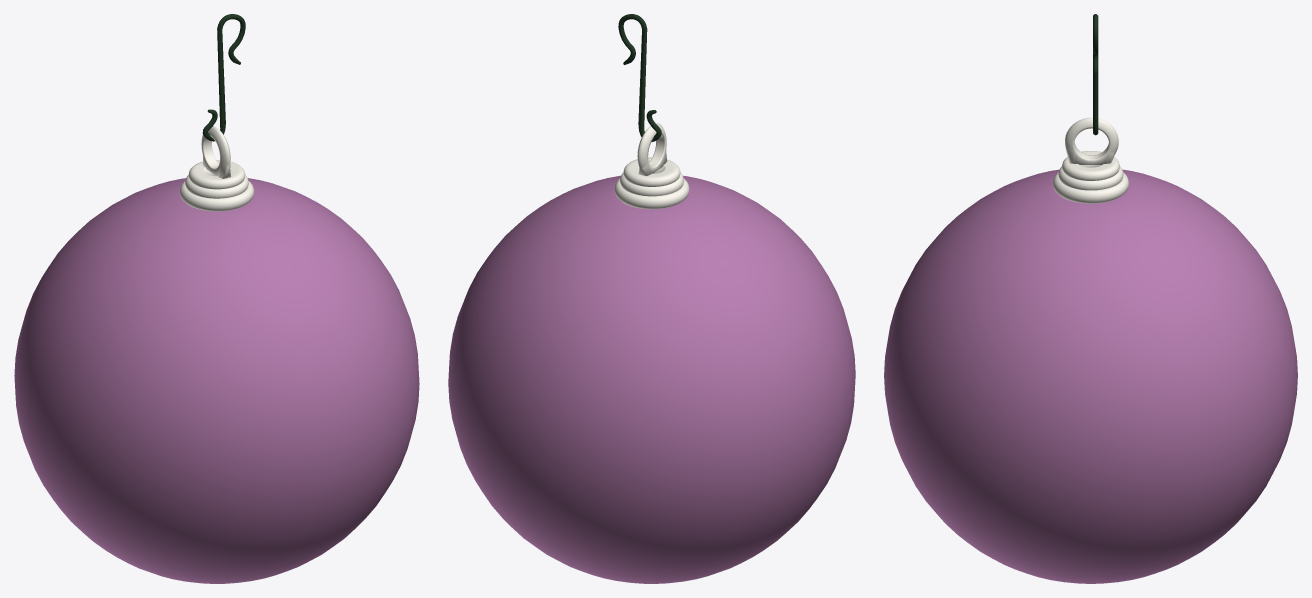
File: Pallina_natalizia_10.fbx
3 renders of one model, left to right at view 1: azimuth 30°, elevation 25°; view 2: azimuth 150°, elevation 25°; view 3: azimuth 270°, elevation 25°, orthographic. The views are drawn at different scales.
Visible parts, largest first — view 1: Pallina_natalizia_10; view 2: Pallina_natalizia_10; view 3: Pallina_natalizia_10.
Boxes of the visible parts, x1,y1,x2,y2 form: Pallina_natalizia_10: (14,14,419,583); Pallina_natalizia_10: (448,14,855,583); Pallina_natalizia_10: (884,14,1297,583).
Size of the model in its own units: 11.94 by 17.75 by 11.94.
